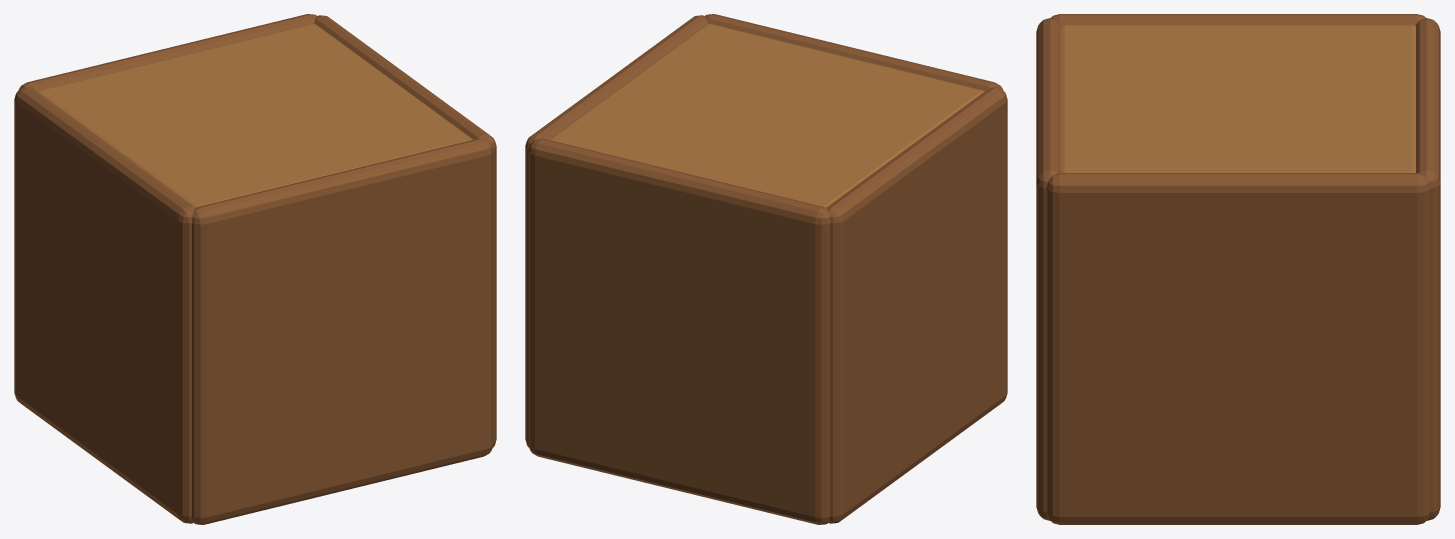
The model's file is crate.glb.
The picture shows the model from 3 angles, left to right: view 1: azimuth 30°, elevation 25°; view 2: azimuth 150°, elevation 25°; view 3: azimuth 270°, elevation 25°; orthographic projection. The views are drawn at different scales.
Visible parts, largest first — view 1: crate; view 2: crate; view 3: crate.
Boxes of the visible parts, bbox=[...] form: crate: bbox=[14, 14, 496, 524]; crate: bbox=[525, 14, 1007, 524]; crate: bbox=[1036, 14, 1440, 524].
Size of the model in its own units: 0.86 by 0.82 by 0.86.
